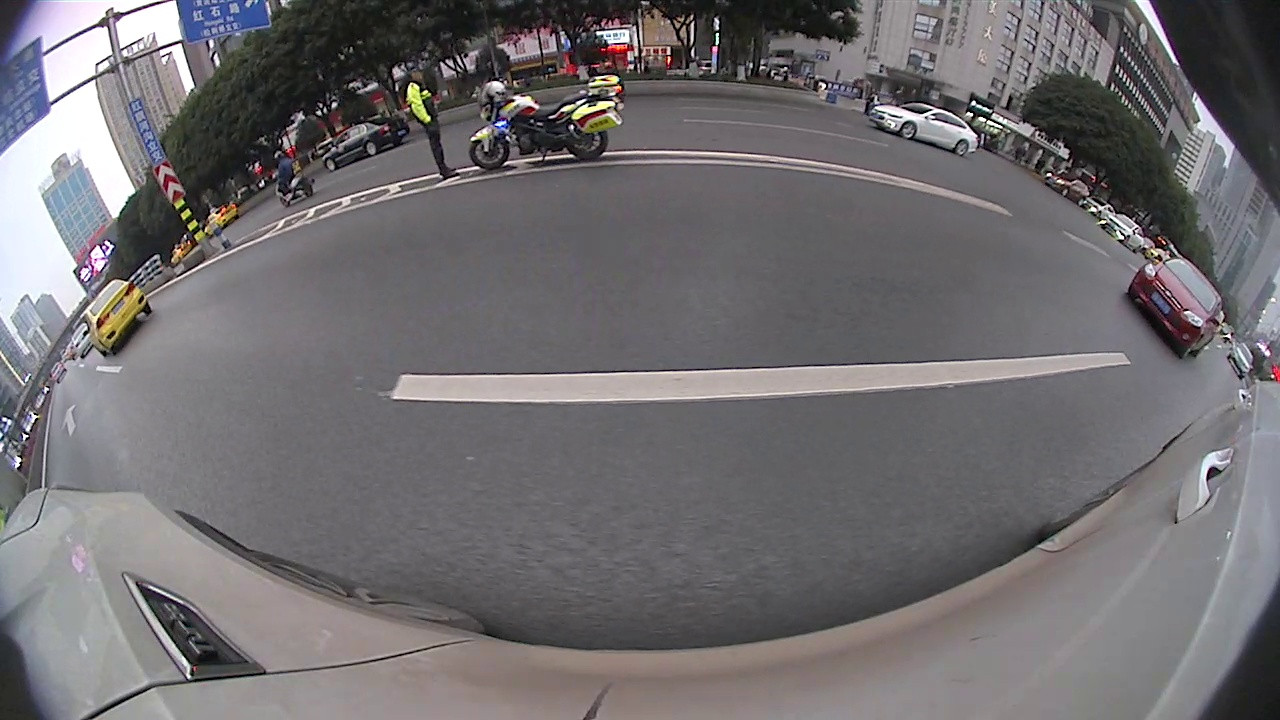bus: (767, 92, 1029, 180)
car: (818, 139, 1157, 329), (0, 285, 219, 503), (1105, 208, 1261, 399), (462, 148, 570, 217), (731, 147, 813, 203), (623, 153, 672, 197)
front: (73, 355, 183, 472), (809, 192, 834, 232)
rear: (947, 233, 1007, 311), (1158, 319, 1202, 378), (738, 174, 755, 201), (543, 184, 555, 211)
rider: (691, 139, 725, 206)
